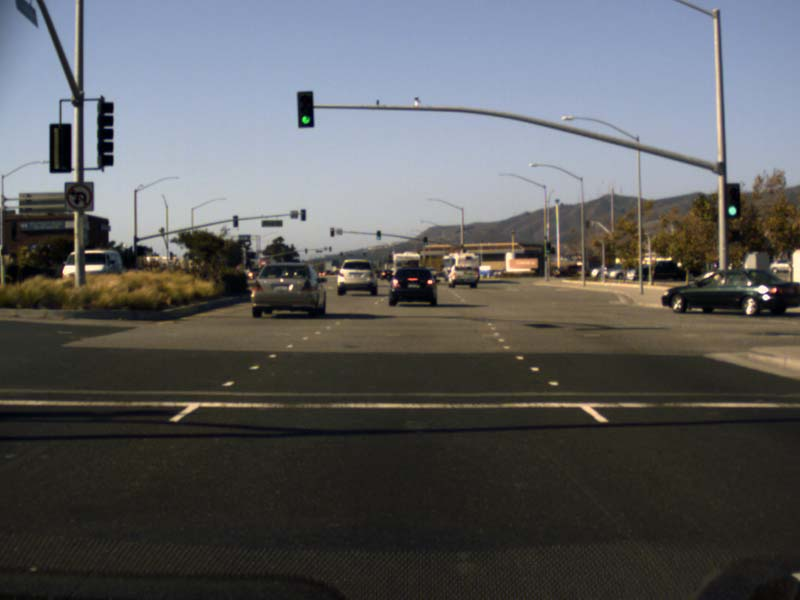Green: (297, 91, 313, 128), (723, 183, 739, 218), (422, 236, 427, 246), (376, 229, 380, 239)
Red: (329, 226, 335, 237)
